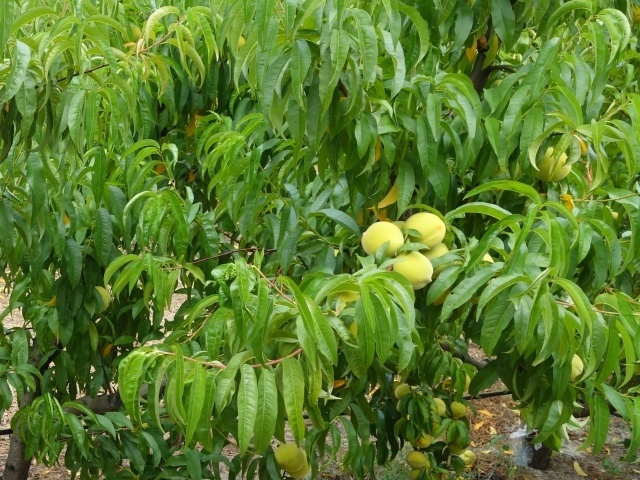peach: (359, 216, 406, 264), (390, 245, 435, 293), (526, 143, 574, 186), (402, 208, 449, 247), (415, 234, 458, 271), (275, 441, 306, 473), (448, 396, 471, 424), (404, 447, 428, 472), (457, 446, 481, 470), (429, 395, 450, 420), (392, 382, 414, 404), (414, 429, 433, 453)
